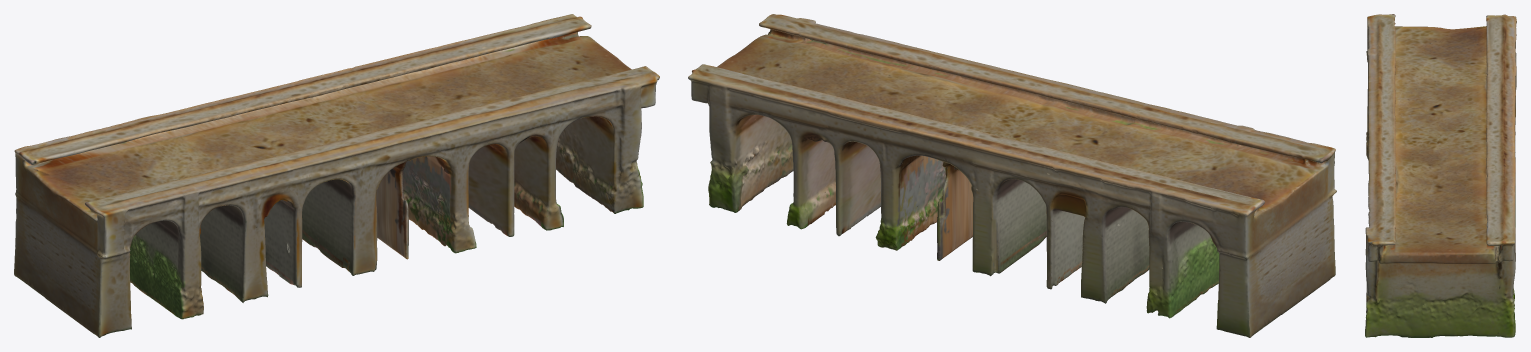
Rendered from Viaduct_Model_Landsca_0821071642_texture.fbx.
3 views of the same model, side by side, from view 1: azimuth 30°, elevation 25°; view 2: azimuth 150°, elevation 25°; view 3: azimuth 270°, elevation 25° (orthographic). The views are drawn at different scales.
Parts seen in each view (by area): view 1: Mesh1.0; view 2: Mesh1.0; view 3: Mesh1.0.
Boxes of the visible parts, box(x1,y1,x2,y2) form: Mesh1.0: box(14, 14, 659, 337); Mesh1.0: box(688, 14, 1336, 337); Mesh1.0: box(1365, 14, 1516, 337).
Size of the model in its own units: 199 by 43.46 by 55.96.
1 material, 1 textured.
